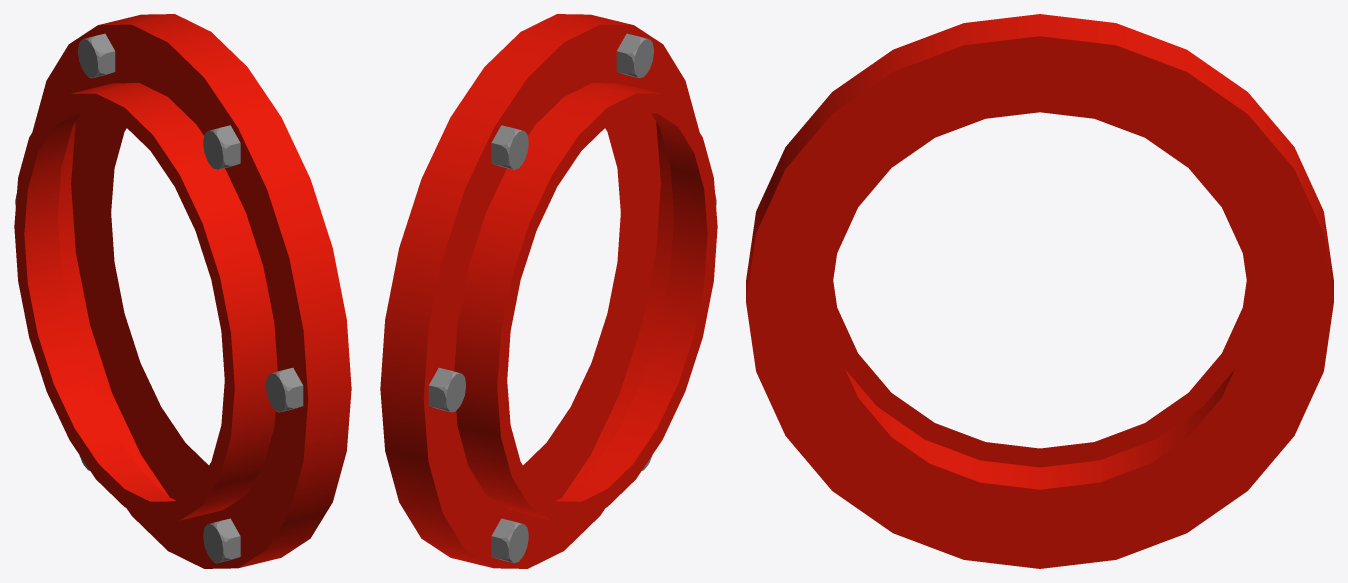
Rendered from Pipe_200_Coupling.fbx.
3 views of the same model, side by side, from view 1: azimuth 30°, elevation 25°; view 2: azimuth 150°, elevation 25°; view 3: azimuth 270°, elevation 25° (orthographic). The views are drawn at different scales.
Visible parts, largest first — view 1: Pipe_200_Coupling, Pipe_400_Nut.001; view 2: Pipe_200_Coupling, Pipe_400_Nut.001; view 3: Pipe_200_Coupling.
Boxes of the visible parts, x1,y1,x2,y2 form: Pipe_200_Coupling: (14,14,351,568); Pipe_400_Nut.001: (15,33,303,563); Pipe_200_Coupling: (380,14,717,568); Pipe_400_Nut.001: (428,33,716,563); Pipe_200_Coupling: (746,14,1333,568).
Size of the model in its own units: 0.05 by 0.28 by 0.28.
